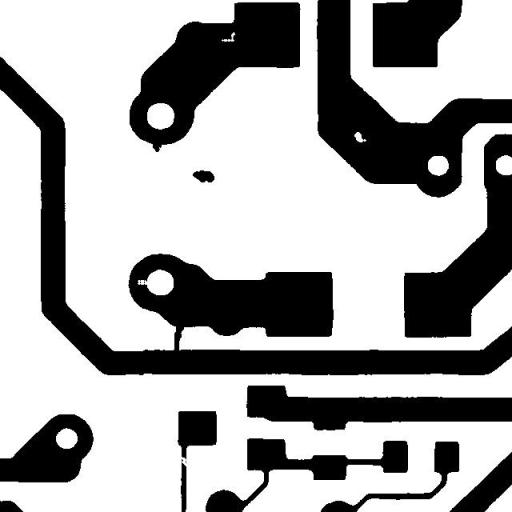copper: (184, 162, 222, 190)
mousebite: (130, 272, 155, 292)
open: (170, 449, 196, 474)
pin-hole: (346, 124, 374, 150), (214, 26, 242, 48)
short: (165, 318, 191, 362)
spur: (145, 134, 169, 159)
